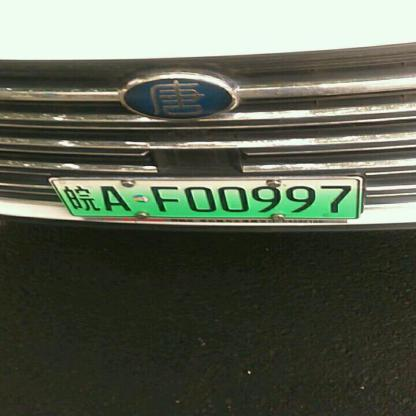lp: (50, 180, 71, 216)
